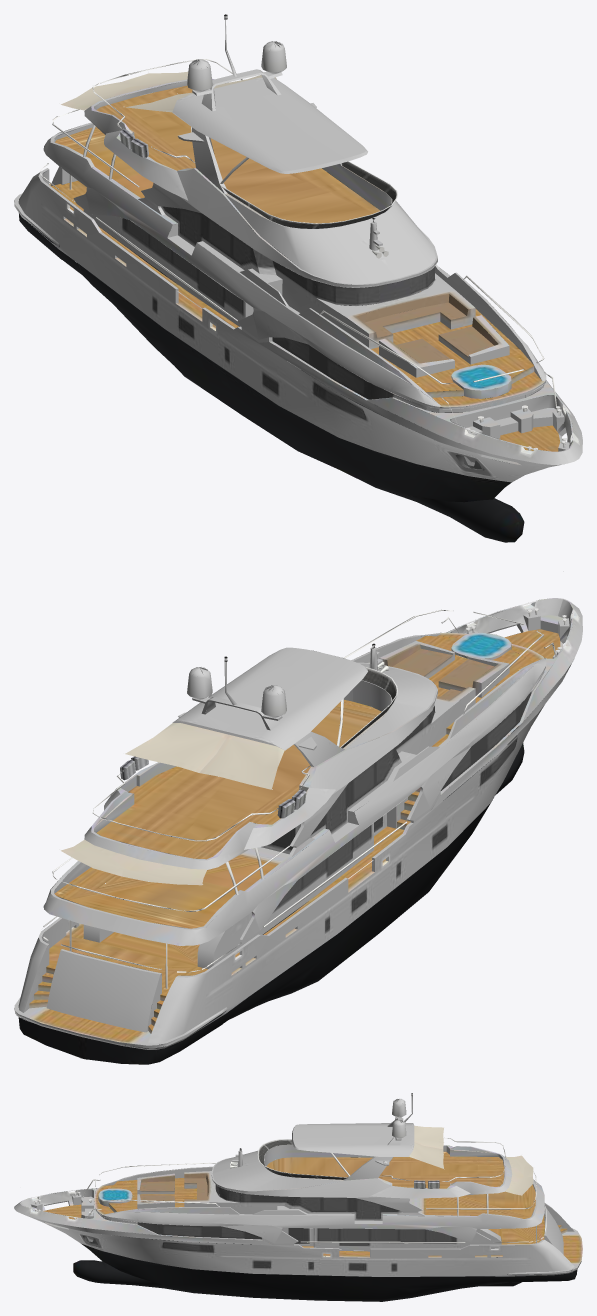
File: user_yacht_classic.glb
3 views of the same model, one above another, from view 1: azimuth 30°, elevation 25°; view 2: azimuth 150°, elevation 25°; view 3: azimuth 270°, elevation 25° (orthographic). The views are drawn at different scales.
Visible parts, largest first — view 1: user_yacht_classic; view 2: user_yacht_classic; view 3: user_yacht_classic.
Part boxes in pixels (x1,y1,x2,y2): user_yacht_classic: (14,14,582,542); user_yacht_classic: (14,571,582,1064); user_yacht_classic: (14,1093,582,1301).
Size of the model in its own units: 2.2 by 4.03 by 10.8.
Materials: 1 (1 with a texture image).
